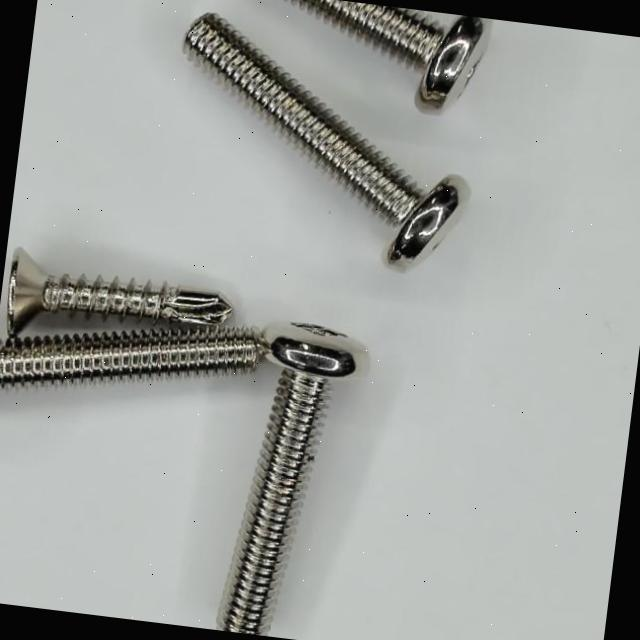Screw: (185, 12, 469, 266), (217, 323, 366, 636), (290, 0, 491, 111), (4, 247, 231, 336), (0, 326, 262, 384)
